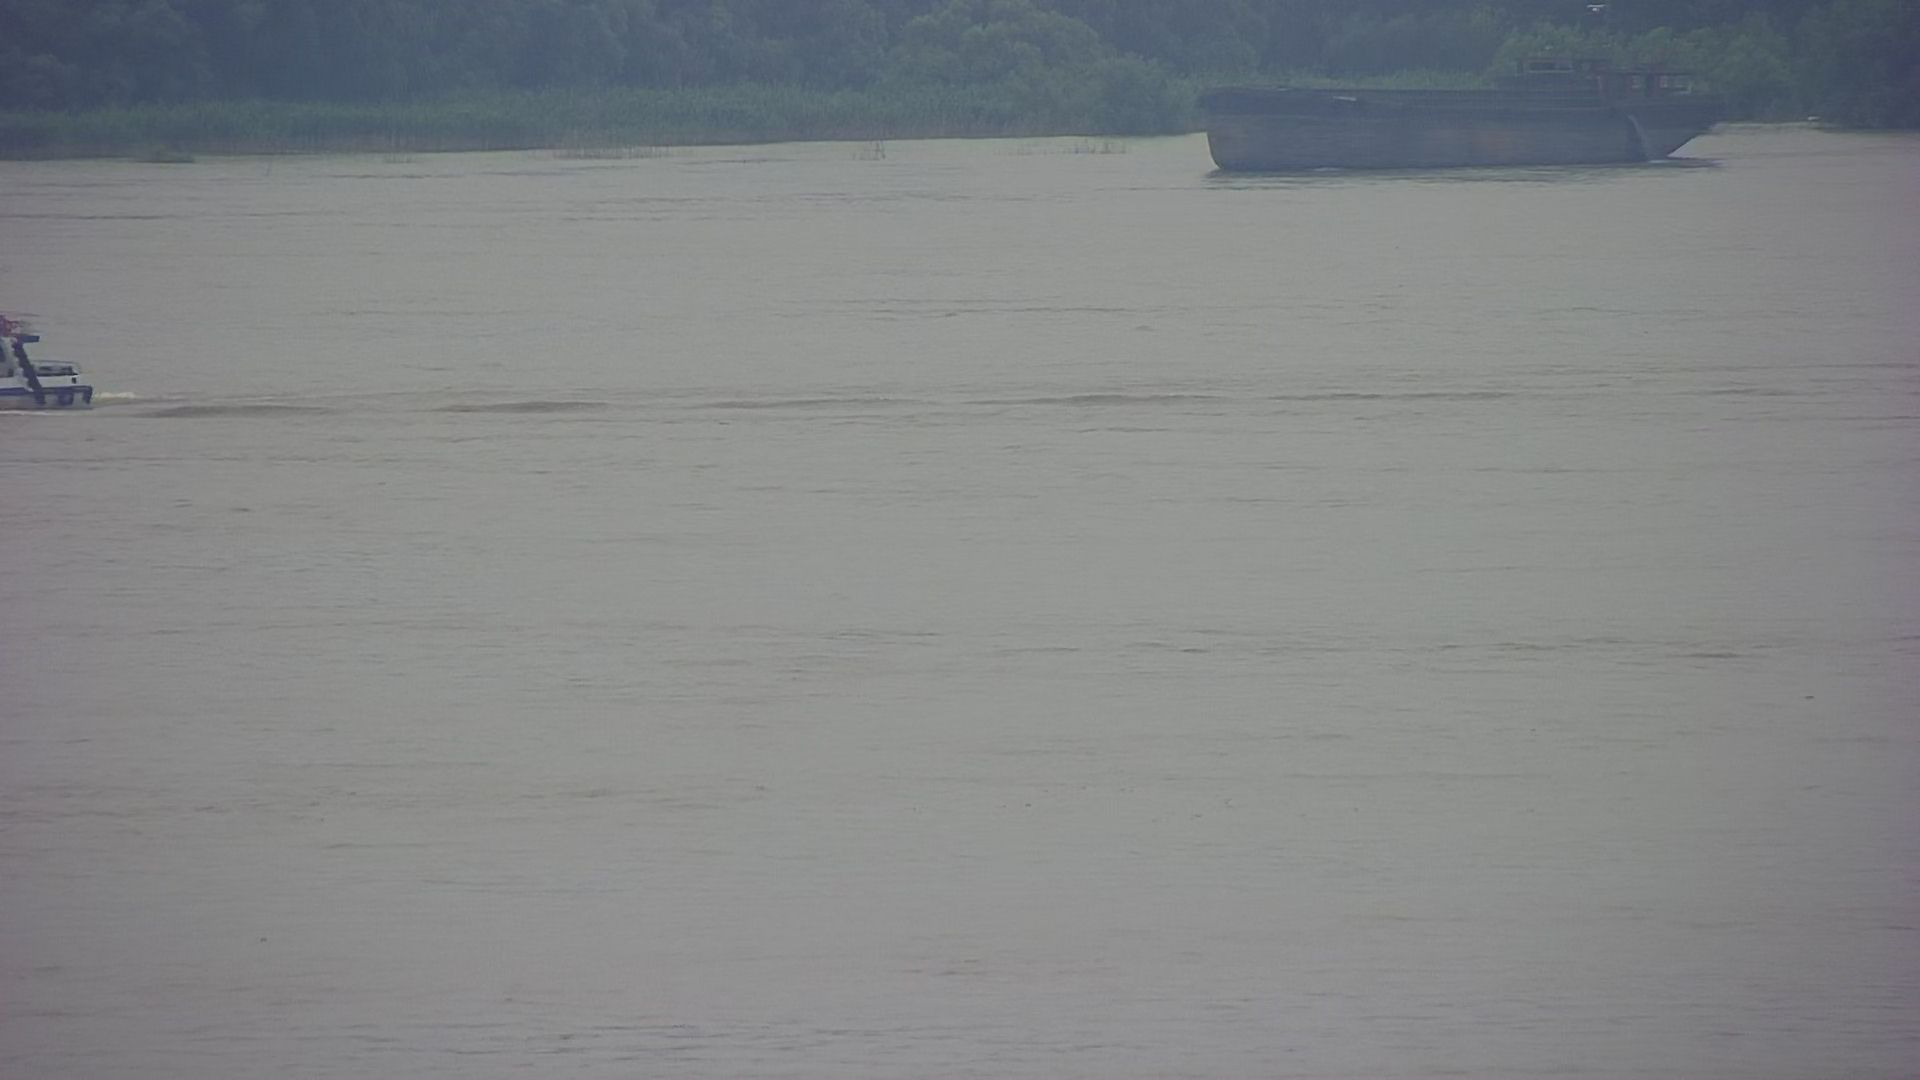ship: (1178, 36, 1738, 185)
